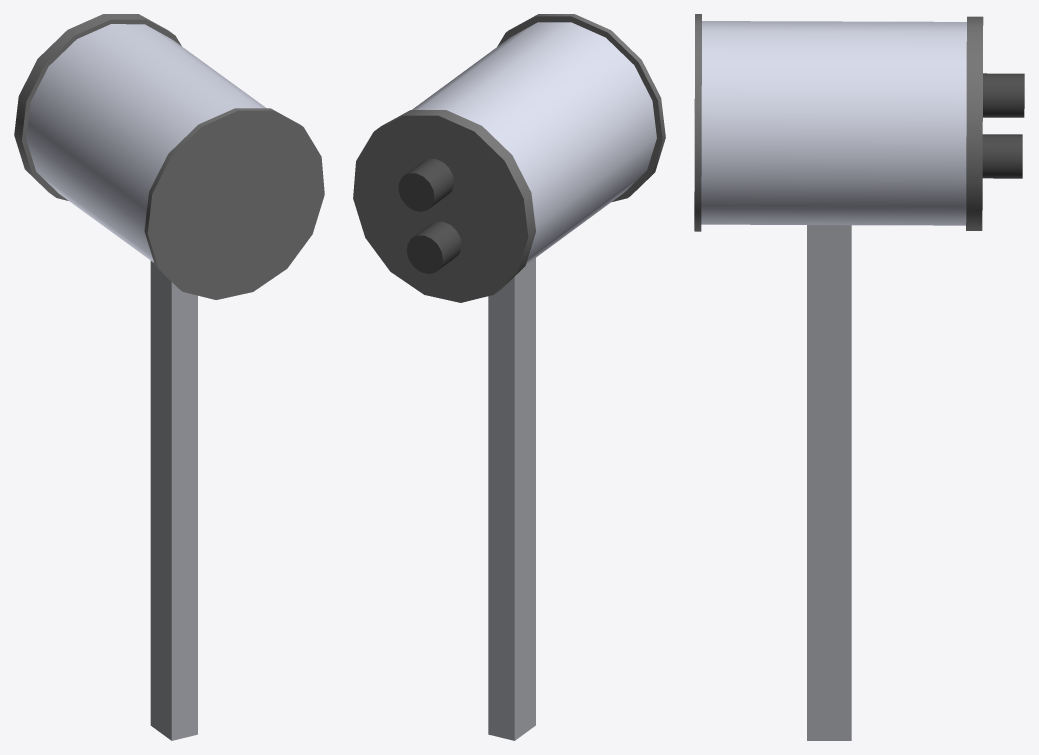
The model's file is SILVER2_Femur_Simplified.fbx.
3 views of the same model, side by side, from view 1: azimuth 30°, elevation 25°; view 2: azimuth 150°, elevation 25°; view 3: azimuth 270°, elevation 25° (orthographic). The views are drawn at different scales.
Parts seen in each view (by area): view 1: FemurCanister, Femur1; view 2: FemurCanister, Femur1, FemurCanisterButton; view 3: FemurCanister, Femur1, FemurCanisterButton.
Boxes of the visible parts, bbox=[...] form: FemurCanister: bbox=[14, 14, 324, 299]; Femur1: bbox=[150, 261, 197, 740]; FemurCanister: bbox=[353, 14, 665, 302]; Femur1: bbox=[488, 258, 535, 740]; FemurCanisterButton: bbox=[406, 221, 461, 273]; FemurCanister: bbox=[694, 14, 1024, 231]; Femur1: bbox=[807, 225, 851, 740]; FemurCanisterButton: bbox=[982, 134, 1022, 178].
Bounding box in the file's own units: 0.1923 × 0.6906 × 0.2914.
1 material, 1 textured.
